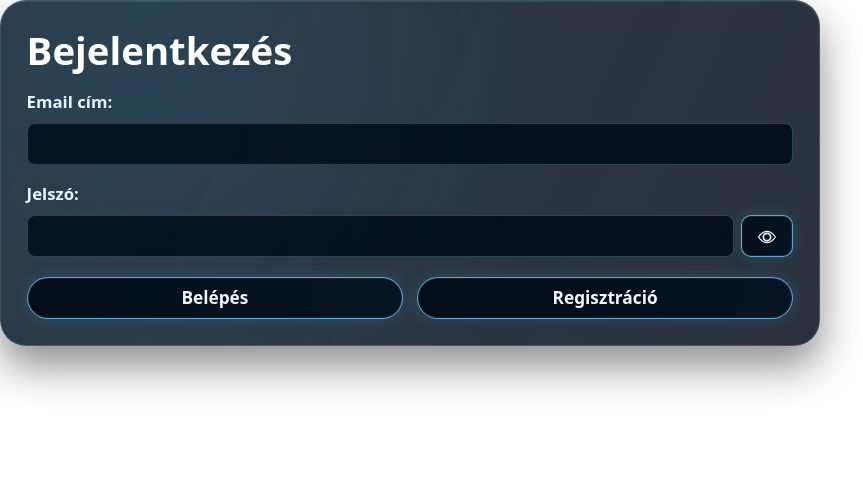
Scenario: UserLogin.vue komponens tesztek › regisztráció módban register eseményt küld, siker után visszaáll bejelentkezésre
The width and height of the screenshot is (863, 500).
Click the button with class "action-btn" showing "Regisztráció".
click(605, 298)  # box x1=417 y1=277 x2=793 y2=319
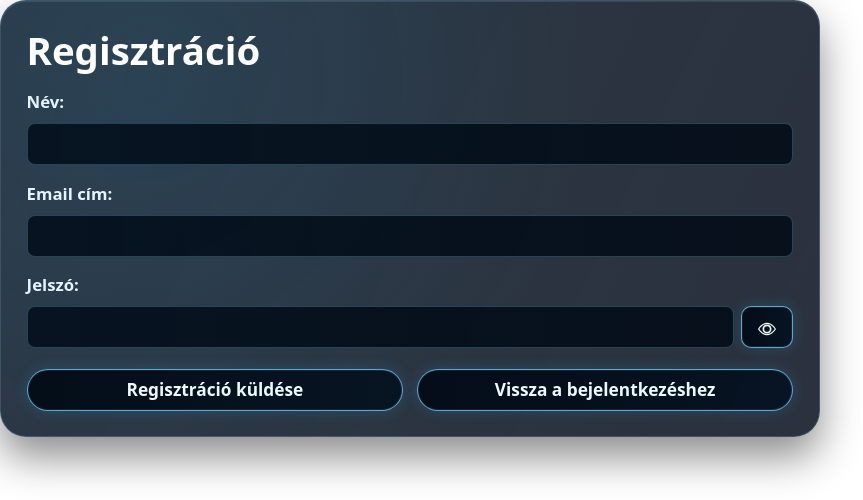
Type "Peca Béla" into the field with id "name".
click(410, 144); type("Peca Béla")  # box x1=27 y1=124 x2=793 y2=166
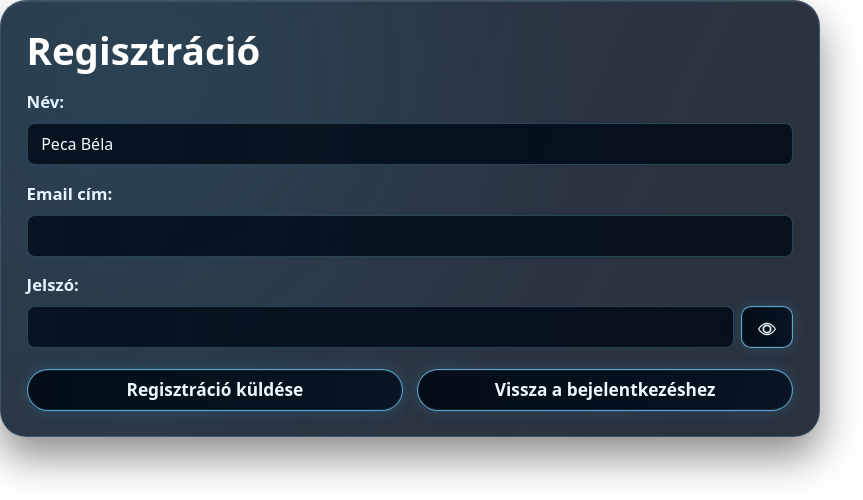
Type "bela@example.com" into the field with id "email".
click(410, 236); type("bela@example.com")  # box x1=27 y1=215 x2=793 y2=257
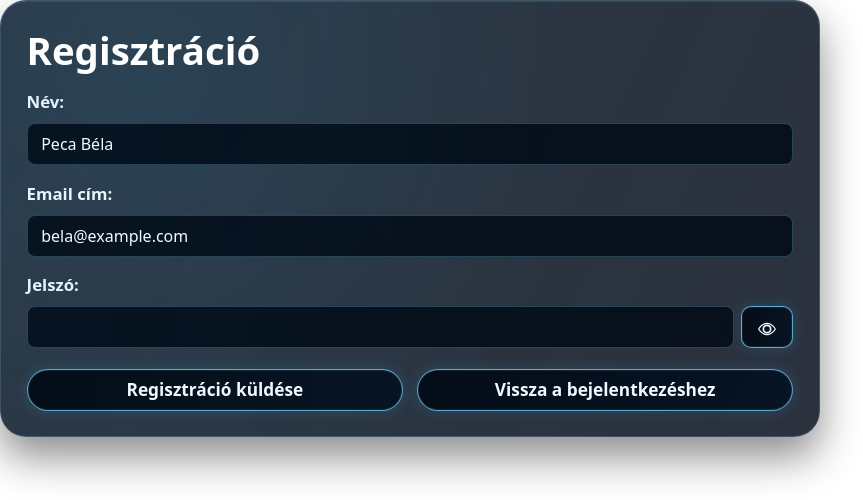
Type "1234" into the password field.
click(380, 327); type("1234")  # box x1=27 y1=306 x2=734 y2=348
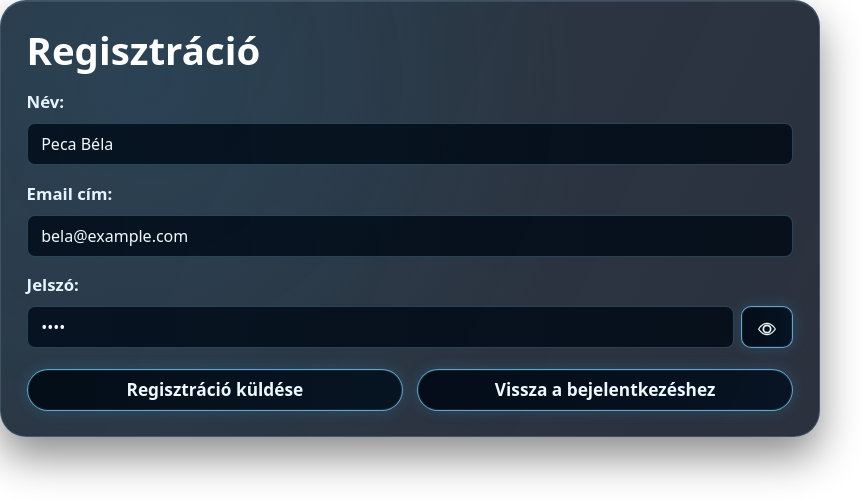
Submit the form
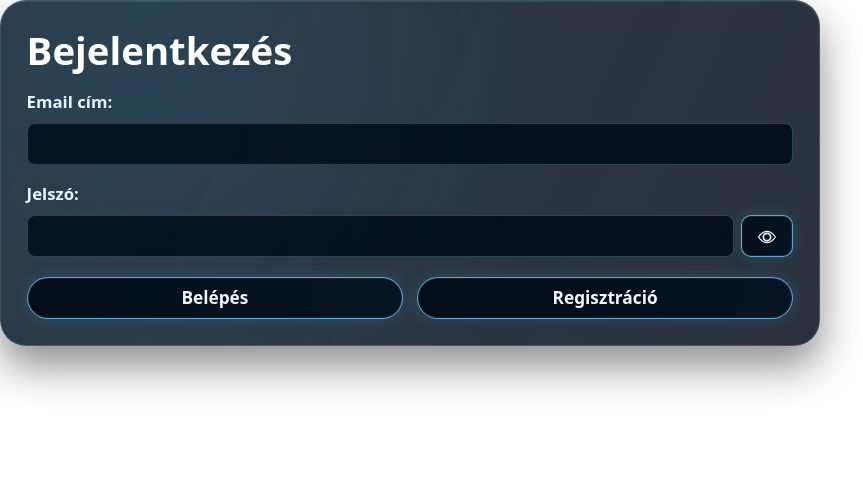
Expected: the heading with class "login-title" reads "Bejelentkezés", x1=27 y1=24 x2=292 y2=76
Expected: the field with id "email" is empty, x1=27 y1=124 x2=793 y2=166
